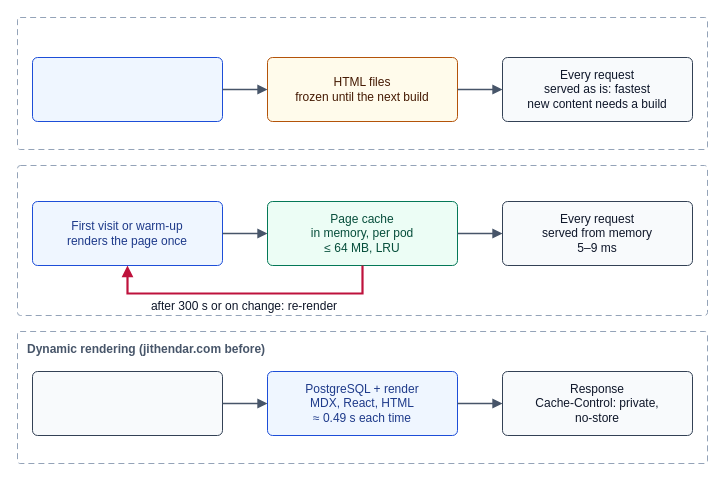
Some shapes in this 725 by 481 pixel diagram are drawn without their labels. Each missing label, with the box of its shape:
Every request no reuse between visitors: (32, 370, 222, 436)
ISR: incremental static regeneration (jithendar.com now): (16, 164, 708, 316)
next build renders every page once: (32, 56, 222, 122)
SSG: static site generation: (16, 16, 708, 150)
